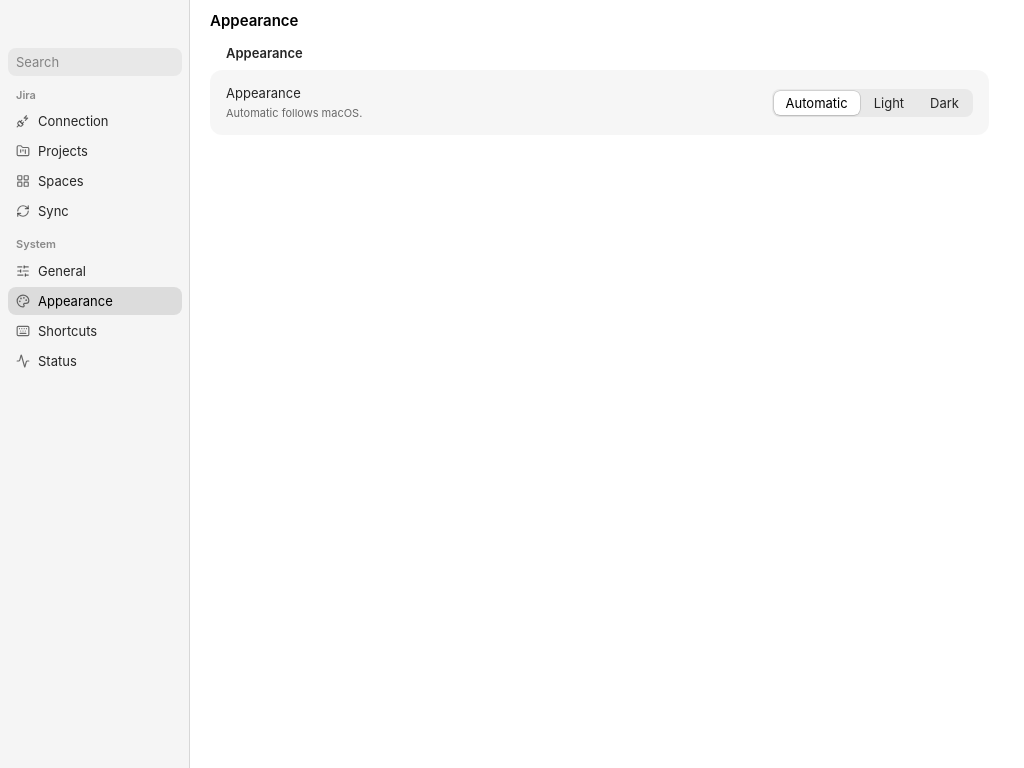
Test: SettingsApp › Appearance page › shows an error toast when the appearance cannot be changed
Click the button "Light": click(889, 103) [862,91,916,115]
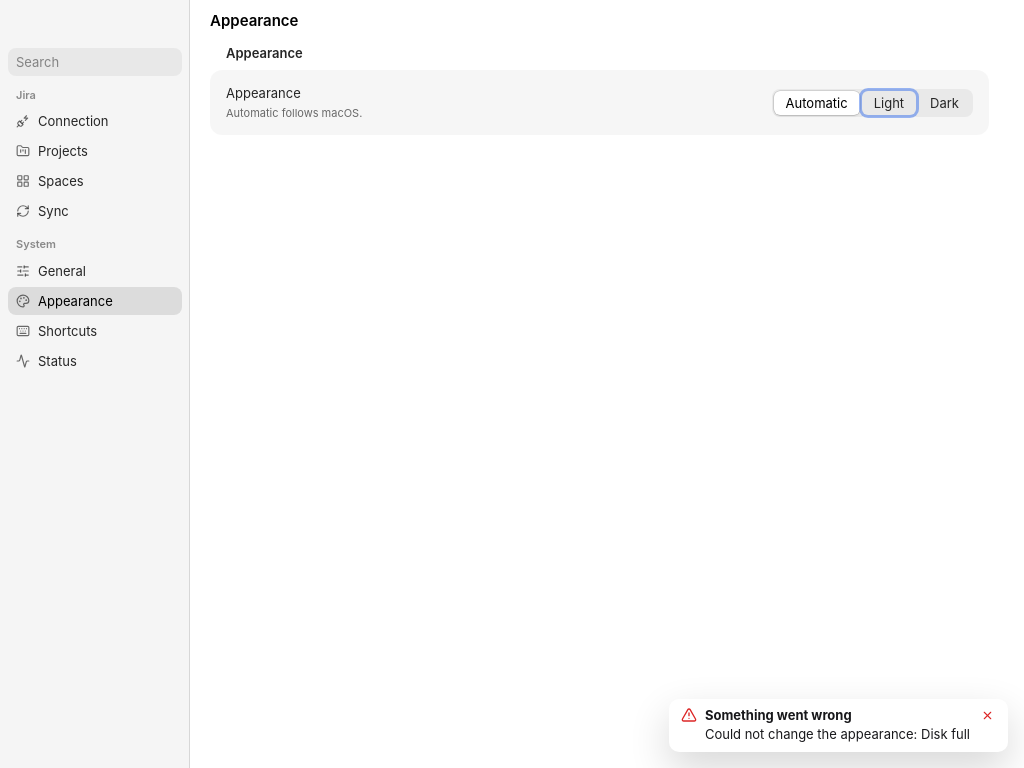
Expected: the text "Could not change the appearance: Disk full" is shown, [705,726,970,742]
